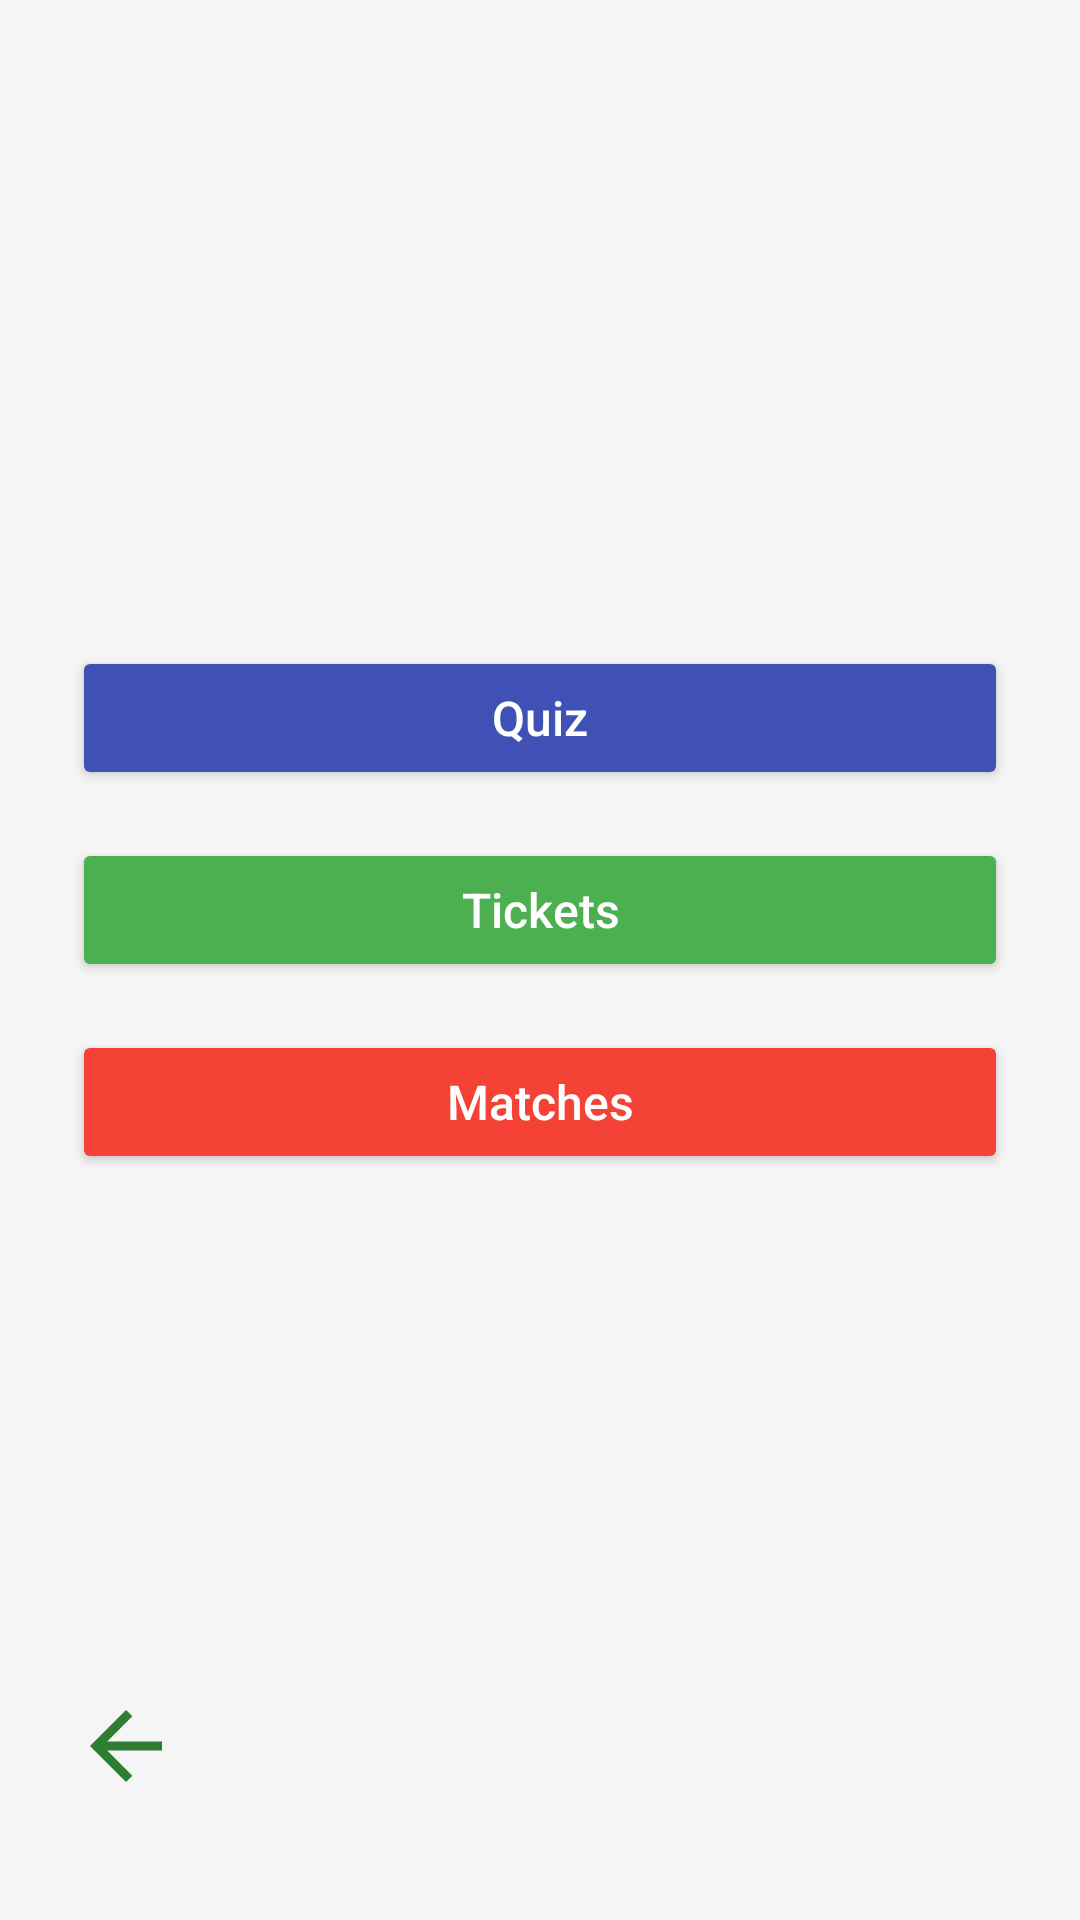

Screen size 1080 × 1920. Icon name, then its center in pixels as (x,y):
Back: (126,1746)
